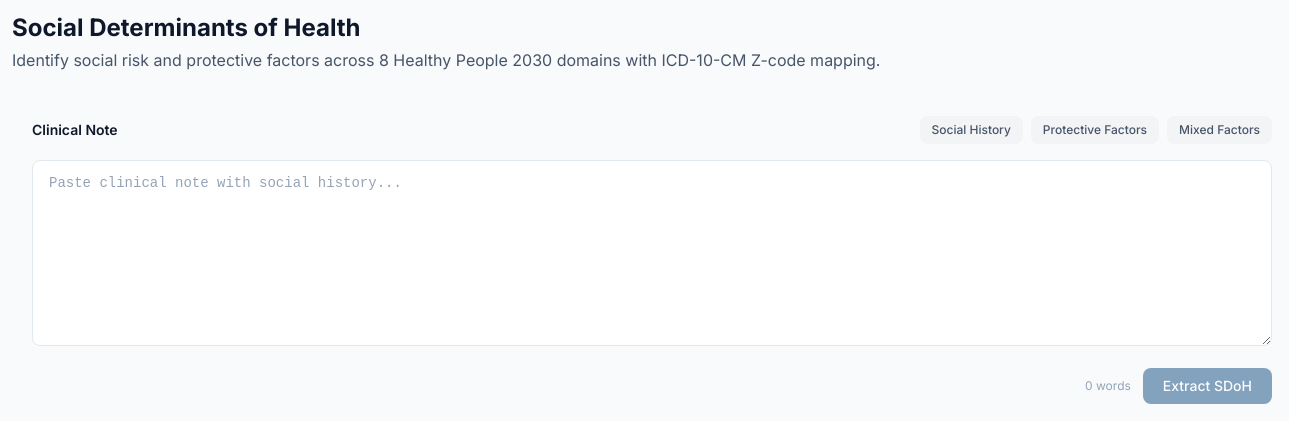
Test: SDoHExtractor — sample loading › enables button after loading sample
Click the button "Social History" at (971, 130), box x1=920 y1=116 x2=1023 y2=144
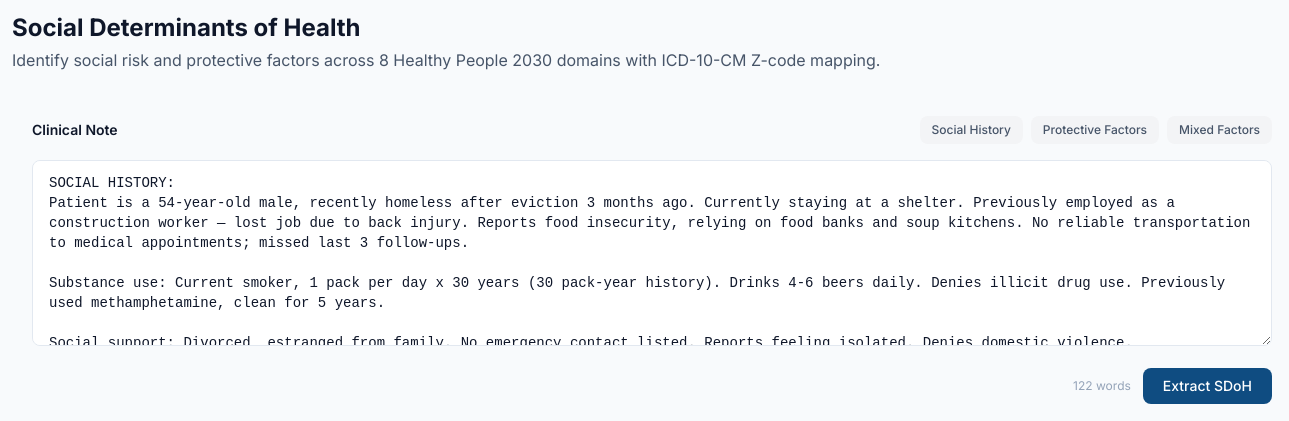
Now the button "Extract SDoH" is enabled, box x1=1143 y1=368 x2=1272 y2=404
